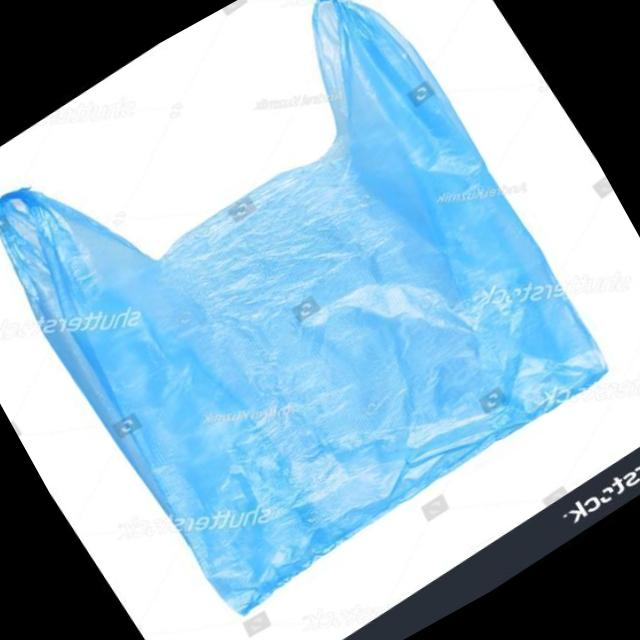KantongPlastik: (0, 0, 632, 634)
